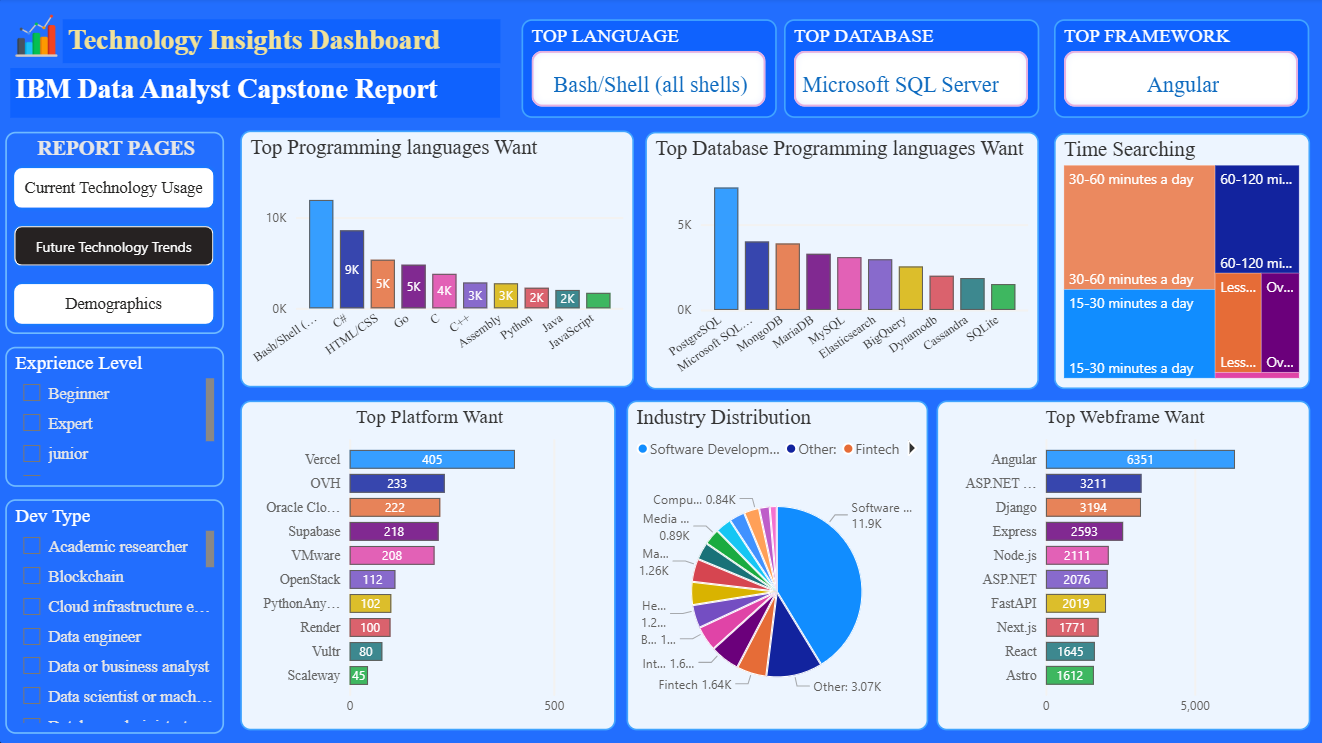

This screenshot's page, from the dashboard's own definition file:
{"tool":"powerbi","page":{"name":"Future Technology Trends","canvas":[1280,720],"ordinal":1},"visuals":[{"type":"image","box":[10.9,9.7,50.7,53.1],"z":0},{"type":"textbox","box":[10.9,67.6,472.9,48.3],"z":1000},{"type":"pageNavigator","title":"REPORT PAGES","box":[6.1,128.7,210.9,194.9],"z":2000},{"type":"slicer","title":"Dev Type","fields":{"Values":["Exploratory_Data.DevType"]},"box":[5.7,483.2,211,226.6],"z":3000},{"type":"slicer","title":"Exprience Level","fields":{"Values":["Exploratory_Data.ExperienceLevel"]},"box":[5.7,336.4,211,135.4],"z":4000},{"type":"cardVisual","title":"TOP LANGUAGE","fields":{"Data":["Min(Exploratory_Data.LanguageHaveWorkedWith)"]},"box":[504.3,20.5,246.1,95.3],"z":5000},{"type":"cardVisual","title":"TOP DATABASE","fields":{"Data":["Min(Exploratory_Data.DatabaseHaveWorkedWith)"]},"box":[757.6,20.5,246.1,95.3],"z":6000},{"type":"cardVisual","title":"TOP FRAMEWORK","fields":{"Data":["Min(Exploratory_Data.WebframeHaveWorkedWith)"]},"box":[1017.7,20,246.6,95.5],"z":7000},{"type":"columnChart","title":"Top Programming languages Want","fields":{"Category":["Exploratory_Data.LanguageWantToWorkWith"],"Series":["Exploratory_Data.LanguageWantToWorkWith"],"Y":["CountNonNull(Exploratory_Data.LanguageWantToWorkWith)"]},"box":[232.3,128.3,380,248],"z":8000},{"type":"columnChart","title":"Top Database  Programming languages Want","fields":{"Category":["Exploratory_Data.DatabaseWantToWorkWith"],"Series":["Exploratory_Data.DatabaseWantToWorkWith"],"Y":["CountNonNull(Exploratory_Data.DatabaseWantToWorkWith)"]},"box":[623.9,128.6,379.9,248.4],"z":9000},{"type":"pieChart","title":"Industry Distribution","fields":{"Category":["Exploratory_Data.Industry"],"Y":["CountNonNull(Exploratory_Data.Industry)"]},"box":[605.1,388.3,290.9,318.4],"z":10000},{"type":"barChart","title":"Top Platform Want","fields":{"Category":["Exploratory_Data.PlatformWantToWorkWith"],"Series":["Exploratory_Data.PlatformWantToWorkWith"],"Y":["CountNonNull(Exploratory_Data.PlatformWantToWorkWith)"]},"box":[232.3,388.7,362.4,318.5],"z":11000},{"type":"barChart","title":"Top Webframe Want","fields":{"Category":["Exploratory_Data.WebframeWantToWorkWith"],"Series":["Exploratory_Data.WebframeWantToWorkWith"],"Y":["CountNonNull(Exploratory_Data.WebframeWantToWorkWith)"]},"box":[904.3,388.3,360.9,318.4],"z":12000},{"type":"treemap","title":"Time Searching","fields":{"Details":["Exploratory_Data.TimeSearching"],"Group":["Exploratory_Data.TimeSearching"],"Values":["CountNonNull(Exploratory_Data.TimeSearching)"]},"box":[1018.2,130.4,247,247],"z":13000},{"type":"textbox","box":[61.5,20.5,422.3,42.2],"z":14000}]}

Visuals, with their boxes in screenshot pixels (x1, y1, x2, y2), scaled from the page's 1280x720 canvas onto the 1322x743 screenshot:
image: (11,10,64,65)
textbox: (11,70,500,120)
"REPORT PAGES" pageNavigator: (6,133,224,334)
"Dev Type" slicer: (6,499,224,732)
"Exprience Level" slicer: (6,347,224,487)
"TOP LANGUAGE" cardVisual: (521,21,775,119)
"TOP DATABASE" cardVisual: (782,21,1037,119)
"TOP FRAMEWORK" cardVisual: (1051,21,1306,119)
"Top Programming languages Want" columnChart: (240,132,632,388)
"Top Database  Programming languages Want" columnChart: (644,133,1037,389)
"Industry Distribution" pieChart: (625,401,925,729)
"Top Platform Want" barChart: (240,401,614,730)
"Top Webframe Want" barChart: (934,401,1307,729)
"Time Searching" treemap: (1052,135,1307,389)
textbox: (64,21,500,65)
